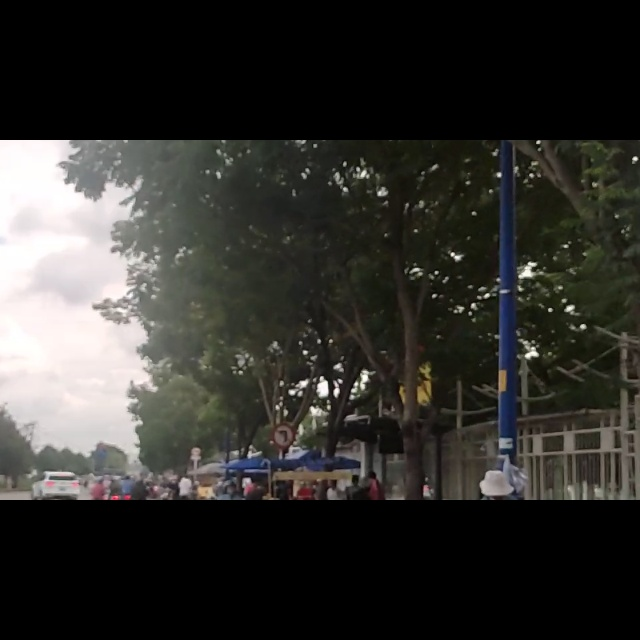bien_cam: (272, 506, 294, 549)
